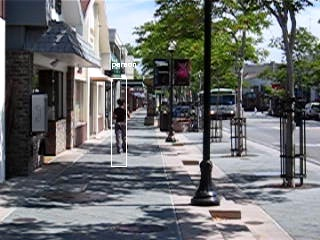person: (113, 98, 132, 155), (112, 98, 131, 155), (114, 98, 133, 155), (113, 97, 132, 154), (113, 99, 132, 156)
target_negative: (83, 2, 271, 190), (133, 59, 174, 228), (224, 129, 270, 229), (94, 146, 232, 151), (300, 57, 305, 102), (295, 143, 296, 155)
